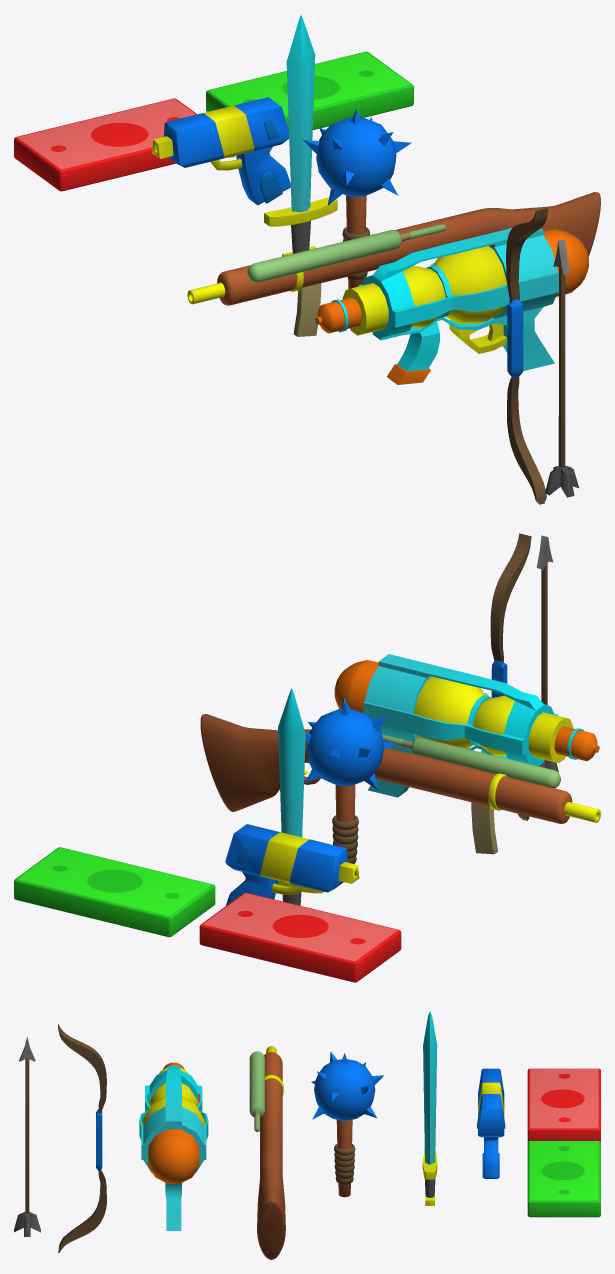
The model's file is weapons.fbx.
3 renders of one model, top to bottom at view 1: azimuth 30°, elevation 25°; view 2: azimuth 150°, elevation 25°; view 3: azimuth 270°, elevation 25°, orthographic. The views are drawn at different scales.
Parts seen in each view (by area): view 1: RG_WG, Cylinder, redDollar, Cube.003, greenDollar, Cube.002, Cube, Cube.001; view 2: RG_WG, Cylinder, redDollar, greenDollar, Cube.003, Cube, Cube.002, Cube.001; view 3: RG_WG, Cylinder, greenDollar, redDollar, Cube, Cube.002, Cube.003, Cube.001.
Boxes of the visible parts, x1,y1,x2,y2 form: RG_WG: (315,228,588,384); Cylinder: (187,192,600,336); redDollar: (14,98,196,191); Cube.003: (152,97,290,205); greenDollar: (206,51,413,129); Cube.002: (506,208,579,504); Cube: (303,109,411,288); Cube.001: (264,15,337,256); RG_WG: (334,654,599,797); Cylinder: (200,714,600,854); redDollar: (199,892,401,982); greenDollar: (14,847,215,937); Cube.003: (225,824,359,905); Cube: (305,698,396,863); Cube.002: (490,533,560,820); Cube.001: (277,688,323,905); RG_WG: (139,1062,208,1230); Cylinder: (249,1046,285,1259); greenDollar: (527,1141,600,1217); redDollar: (527,1068,600,1142); Cube: (311,1052,383,1197); Cube.002: (14,1023,106,1253); Cube.003: (477,1068,505,1178); Cube.001: (422,1011,437,1205).
Size of the model in its own units: 2.98 by 2.19 by 4.81.
Materials: 1 (1 with a texture image).
